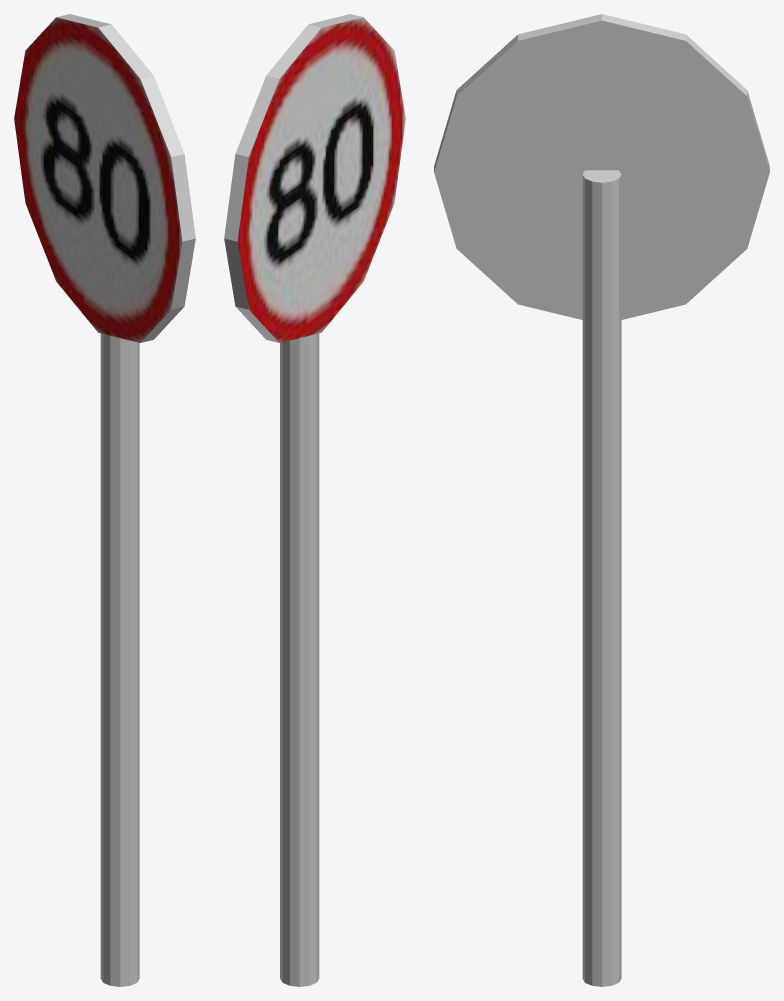
Rendered from speed_limit_80.dae.
3 renders of one model, left to right at view 1: azimuth 30°, elevation 25°; view 2: azimuth 150°, elevation 25°; view 3: azimuth 270°, elevation 25°, orthographic.
Visible parts, largest first — view 1: Mesh_121, Mesh_120; view 2: Mesh_121, Mesh_120; view 3: Mesh_120.
Part boxes in pixels (x1,y1,x2,y2): Mesh_121: (14, 17, 182, 342); Mesh_120: (57, 14, 195, 986); Mesh_121: (237, 17, 405, 342); Mesh_120: (224, 14, 362, 986); Mesh_120: (434, 14, 769, 986).
Size of the model in its own units: 0.0635 by 0.4752 by 1.49.
2 materials, 1 textured.
